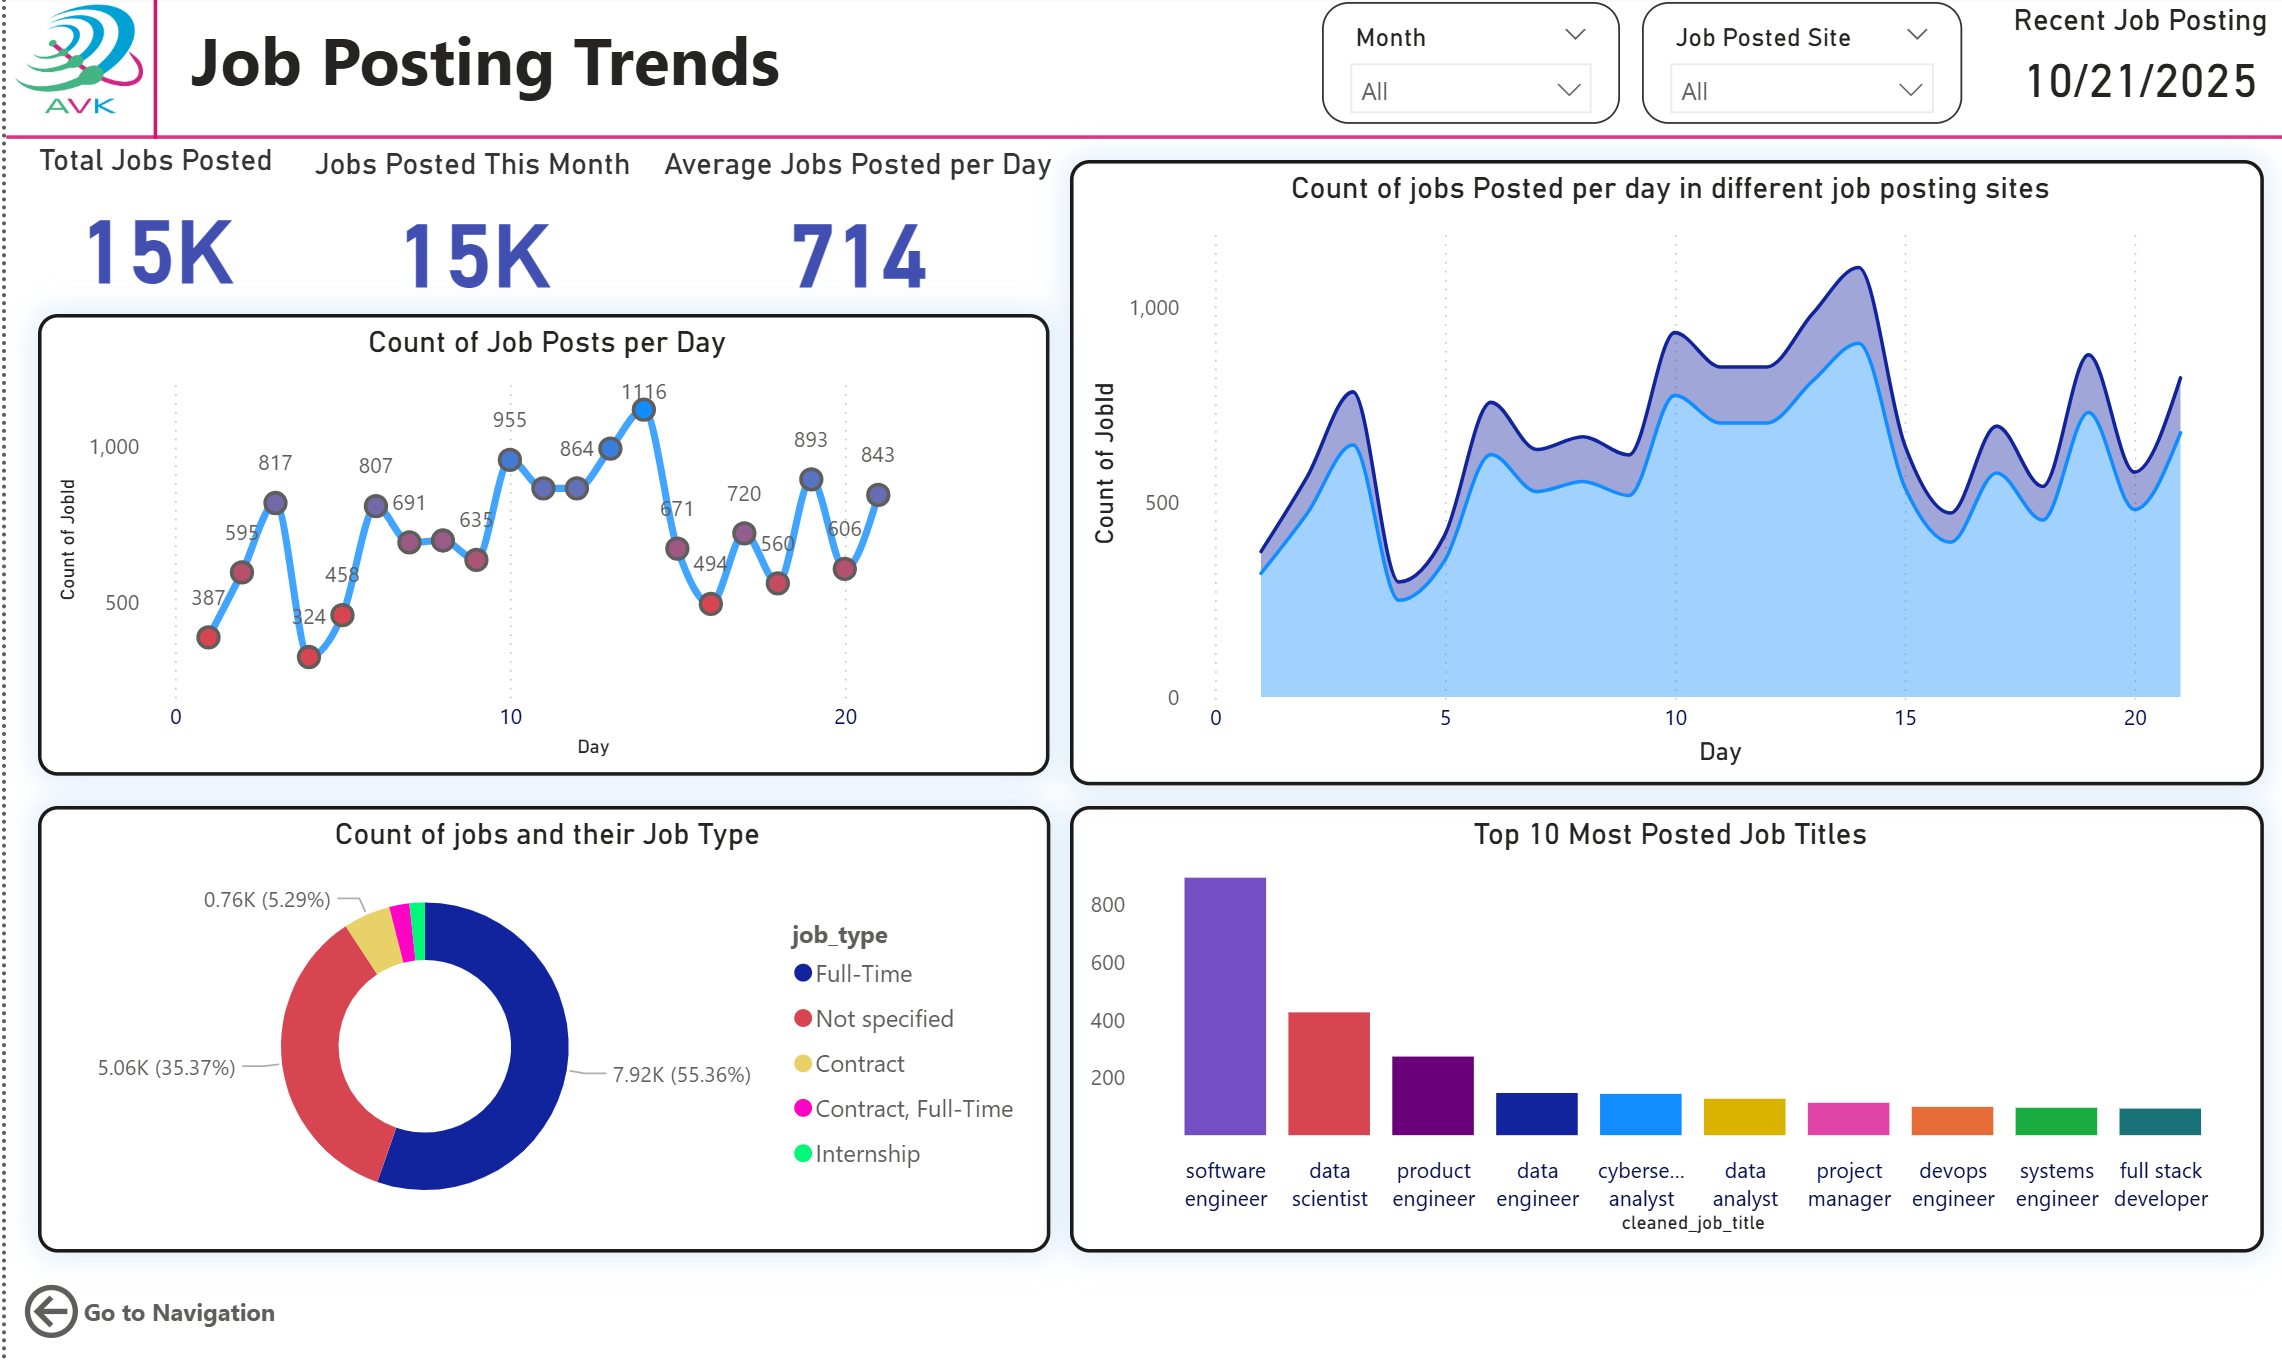

The page's visual inventory and layout, read from the dashboard file:
{"tool":"powerbi","page":{"name":"Job Posting Trends","canvas":[1280,770],"ordinal":4},"visuals":[{"type":"shape","box":[0,70,1280,21.4],"z":0},{"type":"image","box":[0,0,81.9,73.4],"z":1000},{"type":"textbox","box":[99.4,5.2,359.6,61.5],"z":2000},{"type":"shape","box":[70,0,28.6,81.4],"z":3000},{"type":"card","title":"Jobs Posted This Month","fields":{"Values":["AllMeasures.Jobs this month"]},"box":[165.8,85.2,194.2,94.7],"z":4000},{"type":"card","title":"Recent Job Posting","fields":{"Values":["job_data.Recent job date"]},"box":[1120.1,4.9,160.2,66],"z":5000},{"type":"slicer","fields":{"Values":["job_data.job_posted_site"]},"box":[919.6,4.9,179.8,68.5],"z":6000},{"type":"slicer","fields":{"Values":["job_data.job_posted_date.Variation.Date Hierarchy.Month","job_data.job_posted_date.Variation.Date Hierarchy.Day"]},"box":[740.1,4.7,167.6,68.7],"z":7000},{"type":"card","title":"Average Jobs Posted per Day","fields":{"Values":["AllMeasures.Average Jobs per Day"]},"box":[359.9,85.2,238.4,94.7],"z":8000},{"type":"lineChart","fields":{"Category":["job_data.job_posted_date.Variation.Date Hierarchy.Day"],"Y":["CountNonNull(job_data.JobId)"]},"box":[17.9,179.9,568.6,259.6],"z":9000},{"type":"card","title":"Total Jobs Posted","fields":{"Values":["job_data.Total jobs"]},"box":[4.7,83.7,159.4,96.3],"z":10000},{"type":"stackedAreaChart","fields":{"Category":["job_data.job_posted_date.Variation.Date Hierarchy.Day"],"Y":["CountNonNull(job_data.JobId)"],"Series":["job_data.job_posted_site"]},"box":[598.3,93.3,671,351.3],"z":11000},{"type":"donutChart","title":"Count of jobs and their Job Type","fields":{"Category":["job_data.job_type"],"Y":["CountNonNull(job_data.JobId)"]},"box":[18.3,456.4,568.9,251.1],"z":12000},{"type":"columnChart","title":"Top 10 Most Posted Job Titles","fields":{"Category":["job_data.cleaned_job_title"],"Y":["CountNonNull(job_data.JobId)"],"Series":["job_data.job_title"]},"box":[598.3,456.2,670.9,251],"z":13000},{"type":"actionButton","box":[5.5,721,149.7,39.8],"z":13001}]}

Visuals, with their boxes in screenshot pixels (x1, y1, x2, y2), scaled from the page's 1280x770 canvas onto the 2282x1362 screenshot:
shape: (left=0, top=124, right=2281, bottom=162)
image: (left=0, top=0, right=146, bottom=130)
textbox: (left=177, top=9, right=818, bottom=118)
shape: (left=125, top=0, right=176, bottom=144)
"Jobs Posted This Month" card: (left=296, top=151, right=642, bottom=318)
"Recent Job Posting" card: (left=1997, top=9, right=2281, bottom=125)
slicer - job_data.job_posted_site: (left=1639, top=9, right=1960, bottom=130)
slicer - job_data.job_posted_date.Variation.Date Hierarchy.Month x job_data.job_posted_date.Variation.Date Hierarchy.Day: (left=1319, top=8, right=1618, bottom=130)
"Average Jobs Posted per Day" card: (left=642, top=151, right=1067, bottom=318)
lineChart - job_data.job_posted_date.Variation.Date Hierarchy.Day x CountNonNull(job_data.JobId): (left=32, top=318, right=1046, bottom=777)
"Total Jobs Posted" card: (left=8, top=148, right=293, bottom=318)
stackedAreaChart - job_data.job_posted_date.Variation.Date Hierarchy.Day x CountNonNull(job_data.JobId): (left=1067, top=165, right=2263, bottom=786)
"Count of jobs and their Job Type" donutChart: (left=33, top=807, right=1047, bottom=1251)
"Top 10 Most Posted Job Titles" columnChart: (left=1067, top=807, right=2263, bottom=1251)
actionButton: (left=10, top=1275, right=277, bottom=1346)
